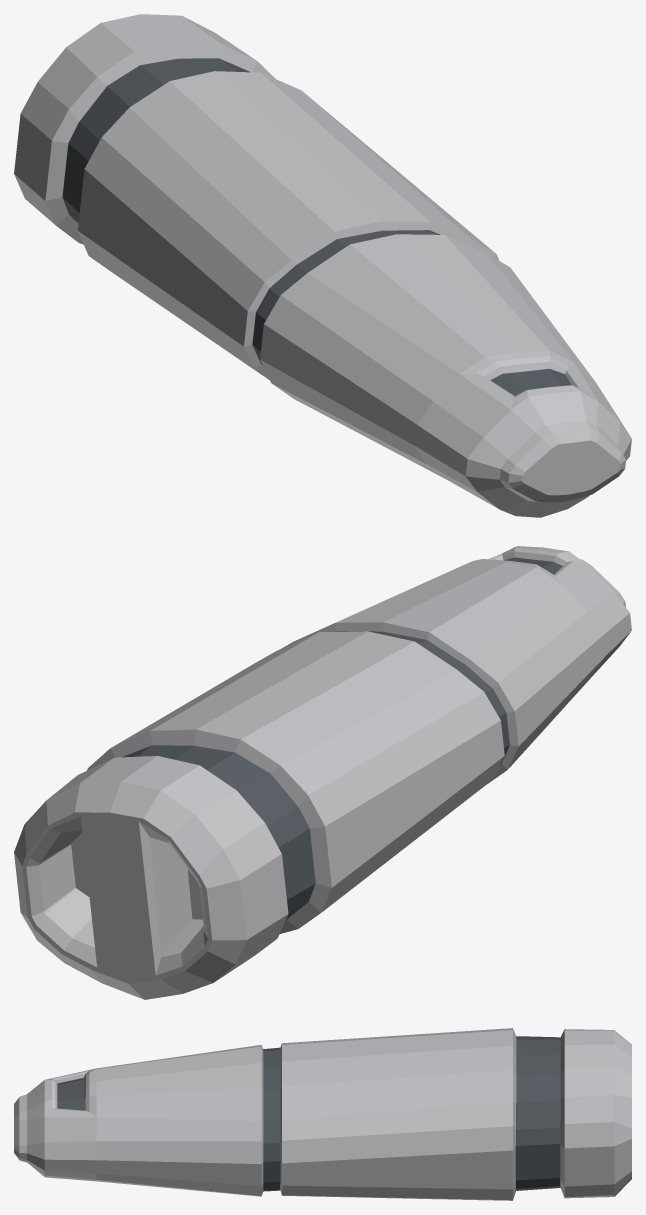
File: Fighter_02_Thruster.fbx
3 renders of one model, top to bottom at view 1: azimuth 30°, elevation 25°; view 2: azimuth 150°, elevation 25°; view 3: azimuth 270°, elevation 25°, orthographic. The views are drawn at different scales.
Parts seen in each view (by area): view 1: Fighter_02_Thruster; view 2: Fighter_02_Thruster; view 3: Fighter_02_Thruster.
Boxes of the visible parts, left/top/right/bottom form: Fighter_02_Thruster: left=14, top=14, right=631, bottom=517; Fighter_02_Thruster: left=14, top=546, right=631, bottom=999; Fighter_02_Thruster: left=14, top=1028, right=631, bottom=1200.
Size of the model in its own units: 156 by 122 by 467.
2 materials, 2 textured.
